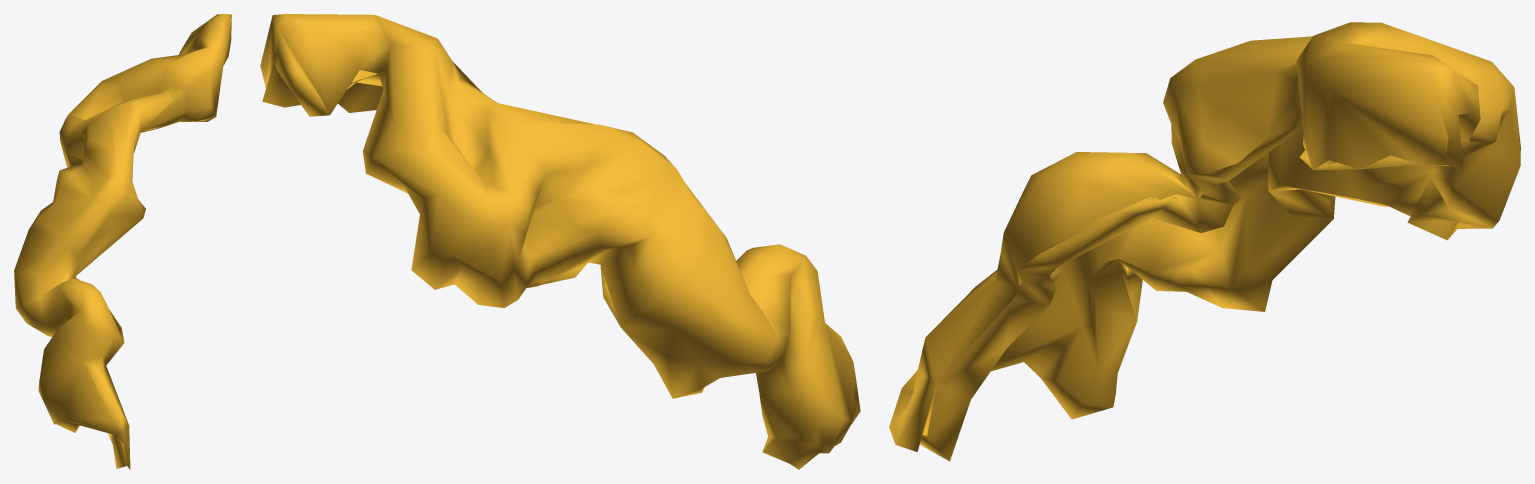
The model's file is nervoso-postcentral-gyrus-r.glb.
3 renders of one model, left to right at view 1: azimuth 30°, elevation 25°; view 2: azimuth 150°, elevation 25°; view 3: azimuth 270°, elevation 25°, orthographic. The views are drawn at different scales.
Visible parts, largest first — view 1: Postcentral gyrus.r; view 2: Postcentral gyrus.r; view 3: Postcentral gyrus.r.
Part boxes in pixels (box(x1,y1,x2,y2)): Postcentral gyrus.r: box(14, 14, 231, 469); Postcentral gyrus.r: box(260, 14, 860, 469); Postcentral gyrus.r: box(889, 22, 1520, 461).
Size of the model in its own units: 0.0528 by 0.0558 by 0.0515.
